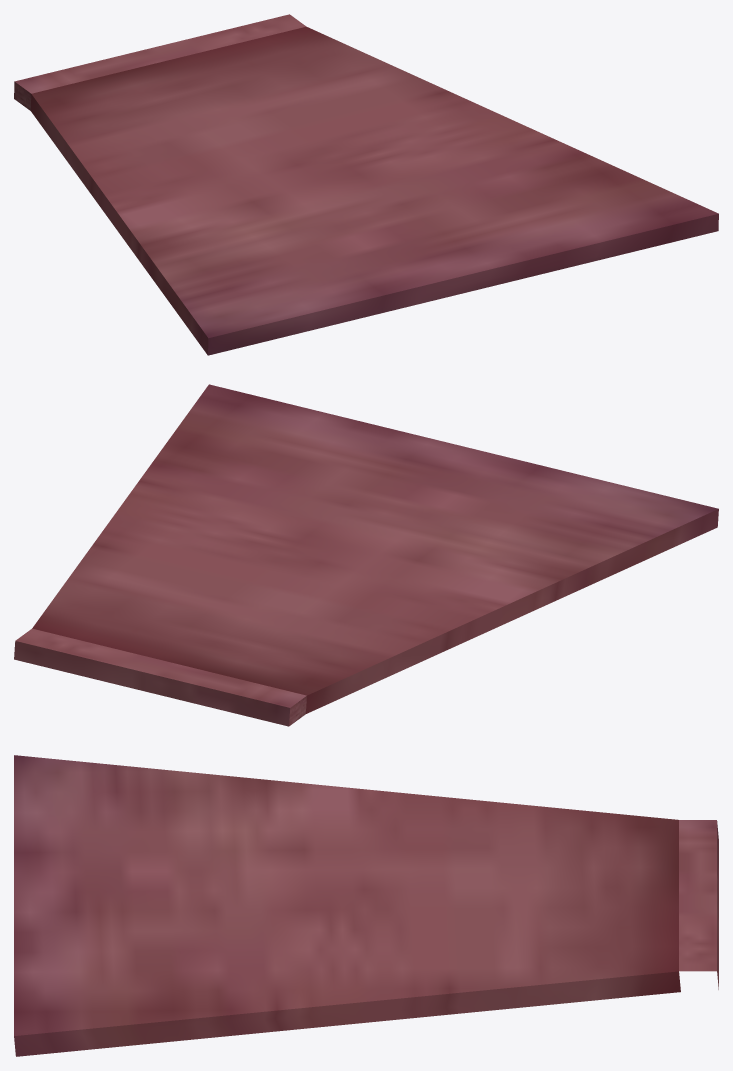
The model's file is METEORYTOWA_BLACHA.glb.
3 views of the same model, one above another, from view 1: azimuth 30°, elevation 25°; view 2: azimuth 150°, elevation 25°; view 3: azimuth 270°, elevation 25° (orthographic). The views are drawn at different scales.
Parts seen in each view (by area): view 1: METEORYTOWA_BLACHA; view 2: METEORYTOWA_BLACHA; view 3: METEORYTOWA_BLACHA.
Boxes of the visible parts, x1,y1,x2,y2 form: METEORYTOWA_BLACHA: (14, 14, 718, 355); METEORYTOWA_BLACHA: (14, 384, 718, 726); METEORYTOWA_BLACHA: (14, 755, 718, 1056).
Size of the model in its own units: 0.2454 by 0.00833 by 0.26.
1 material, 1 textured.
